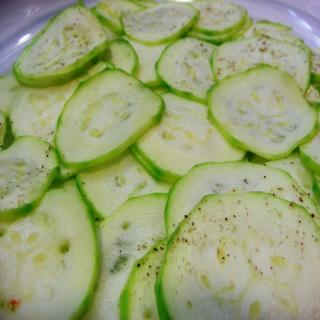Cucumber: (0, 0, 320, 320), (208, 61, 320, 160)
